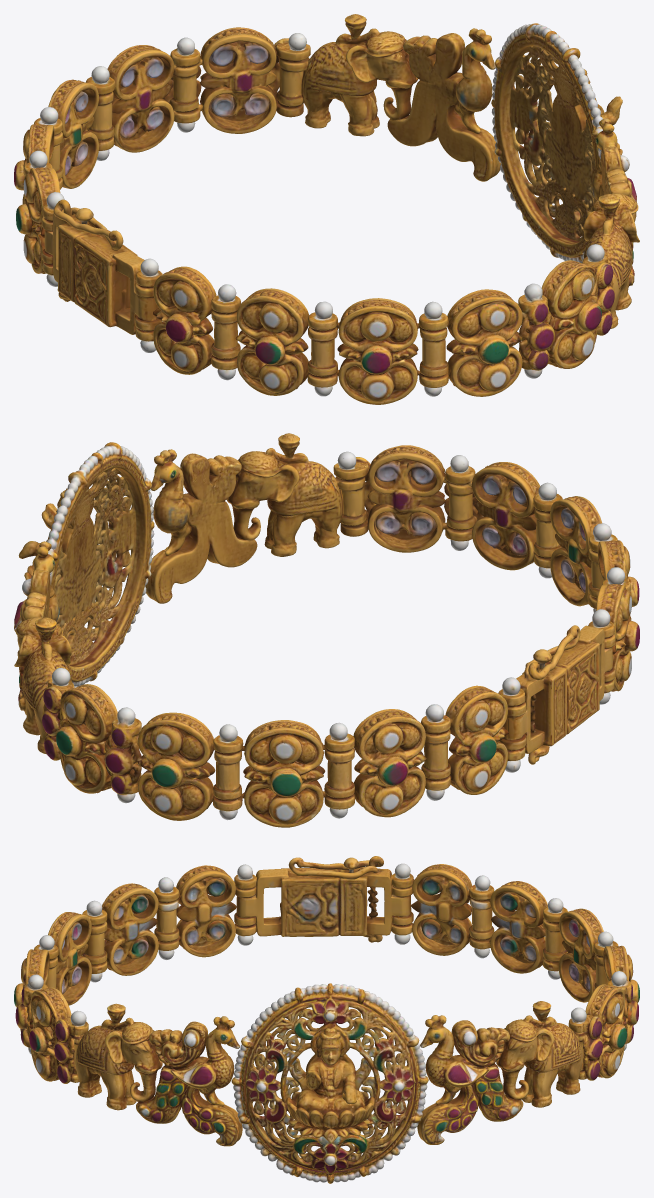
File: Dimond Braclet.glb
3 views of the same model, one above another, from view 1: azimuth 30°, elevation 25°; view 2: azimuth 150°, elevation 25°; view 3: azimuth 270°, elevation 25° (orthographic). The views are drawn at different scales.
Visible parts, largest first — view 1: tripo_node_261c2014-8dcf-4d87-a44f-4e9b301defb1; view 2: tripo_node_261c2014-8dcf-4d87-a44f-4e9b301defb1; view 3: tripo_node_261c2014-8dcf-4d87-a44f-4e9b301defb1.
Boxes of the visible parts, bbox=[...] form: tripo_node_261c2014-8dcf-4d87-a44f-4e9b301defb1: bbox=[14, 14, 639, 404]; tripo_node_261c2014-8dcf-4d87-a44f-4e9b301defb1: bbox=[14, 433, 639, 827]; tripo_node_261c2014-8dcf-4d87-a44f-4e9b301defb1: bbox=[14, 856, 639, 1183].
Bounding box in the file's own units: 0.8512 × 0.3457 × 0.9999.
Materials: 1 (1 with a texture image).
